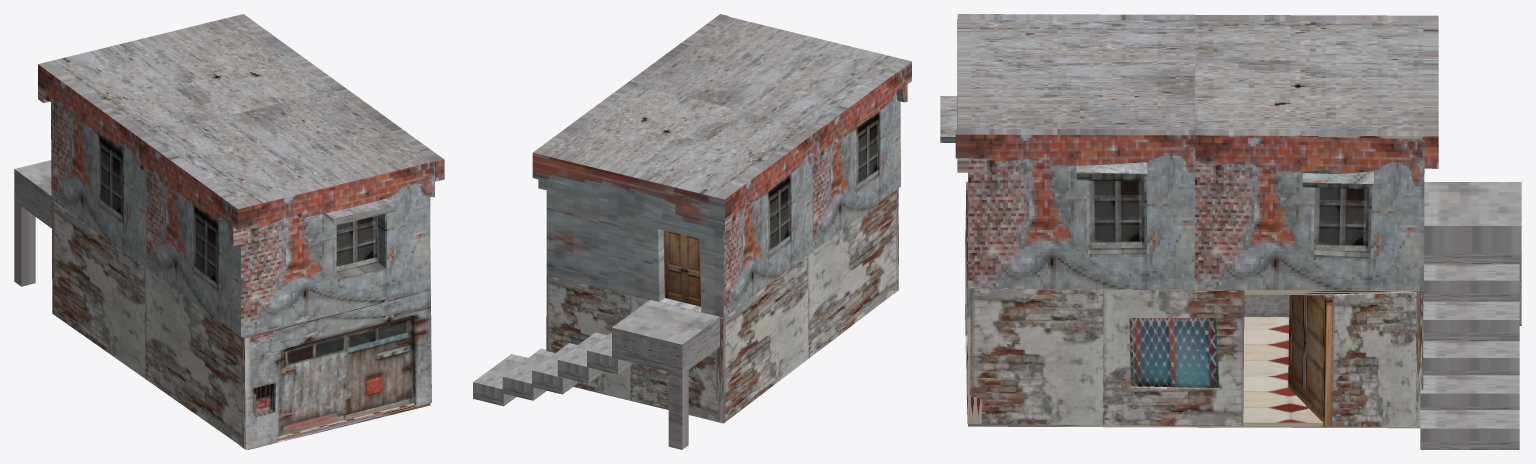
The model's file is MC_Apartment.fbx.
3 renders of one model, left to right at view 1: azimuth 30°, elevation 25°; view 2: azimuth 150°, elevation 25°; view 3: azimuth 270°, elevation 25°, orthographic. The views are drawn at different scales.
Visible parts, largest first — view 1: Cube.005; view 2: Cube.005; view 3: Cube.005.
Part boxes in pixels (<box>): Cube.005: <box>14,14,444,449</box>; Cube.005: <box>473,14,911,449</box>; Cube.005: <box>940,14,1521,449</box>.
Size of the model in its own units: 19468 by 19618 by 34579.
Materials: 3 (3 with a texture image).
